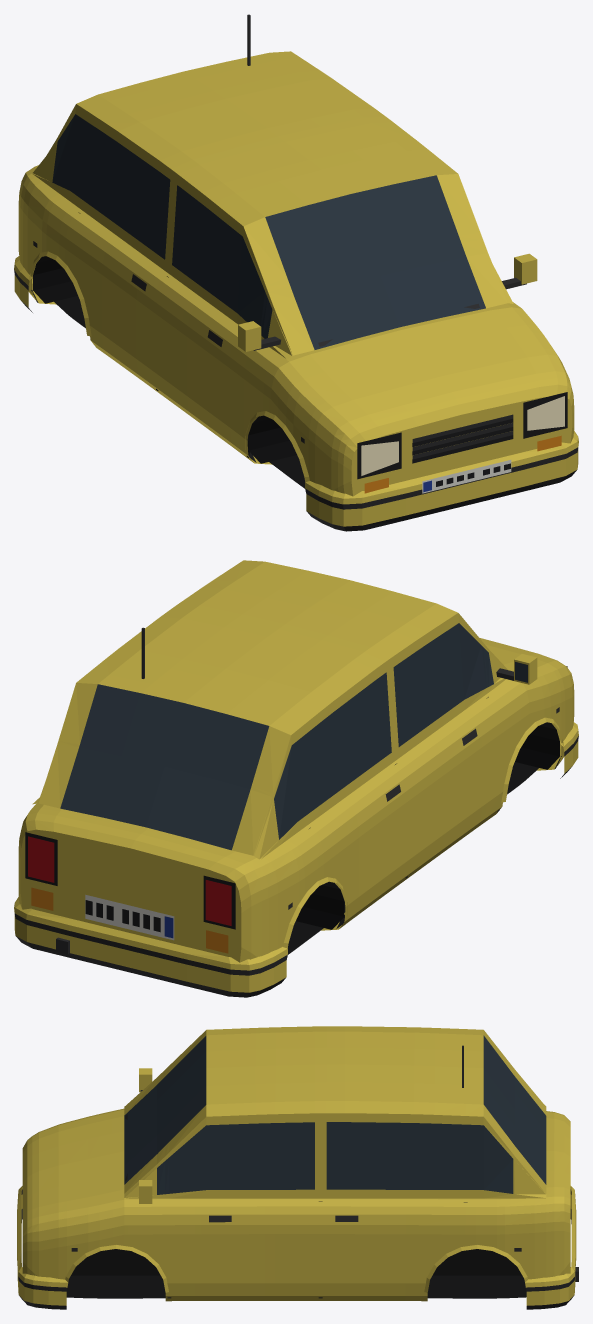
Rendered from alcor-chispa.glb.
3 views of the same model, one above another, from view 1: azimuth 30°, elevation 25°; view 2: azimuth 150°, elevation 25°; view 3: azimuth 270°, elevation 25° (orthographic). The views are drawn at different scales.
Parts seen in each view (by area): view 1: LOD0, door_FR, door_RR; view 2: LOD0, door_FR, door_RR; view 3: LOD0, door_FL, door_RL.
Boxes of the visible parts, box(x1,y1,x2,y2) form: LOD0: box(14, 14, 578, 531); door_FR: box(155, 174, 265, 453); door_RR: box(65, 111, 170, 385); LOD0: box(14, 560, 578, 997); door_FR: box(393, 613, 501, 873); door_RR: box(302, 662, 408, 921); LOD0: box(17, 1026, 578, 1309); door_FL: box(169, 1113, 318, 1295); door_RL: box(322, 1113, 465, 1295).
Size of what is drawn, in the model's own units: 1.7 by 1.58 by 3.44.
